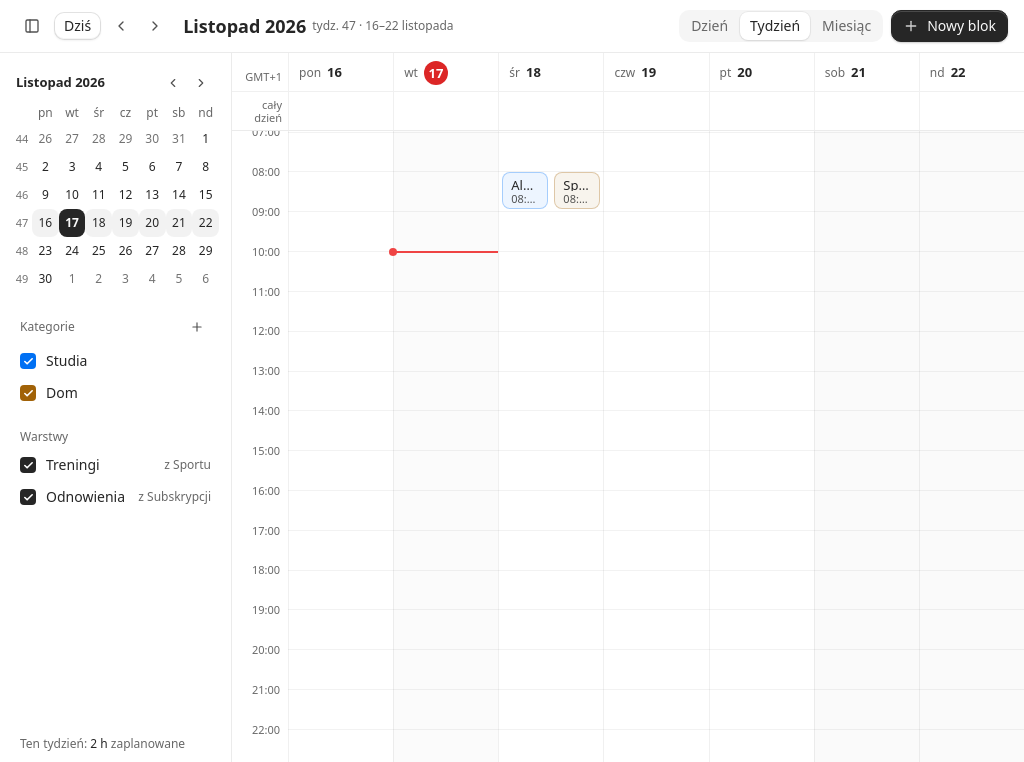
Test: CalendarView › klik w blok otwiera dymek, ponowny klik i Esc go zamykają
Click the button "Algebra 08:00–09:00". click: {"x": 525, "y": 191}
box: [502,172,548,209]
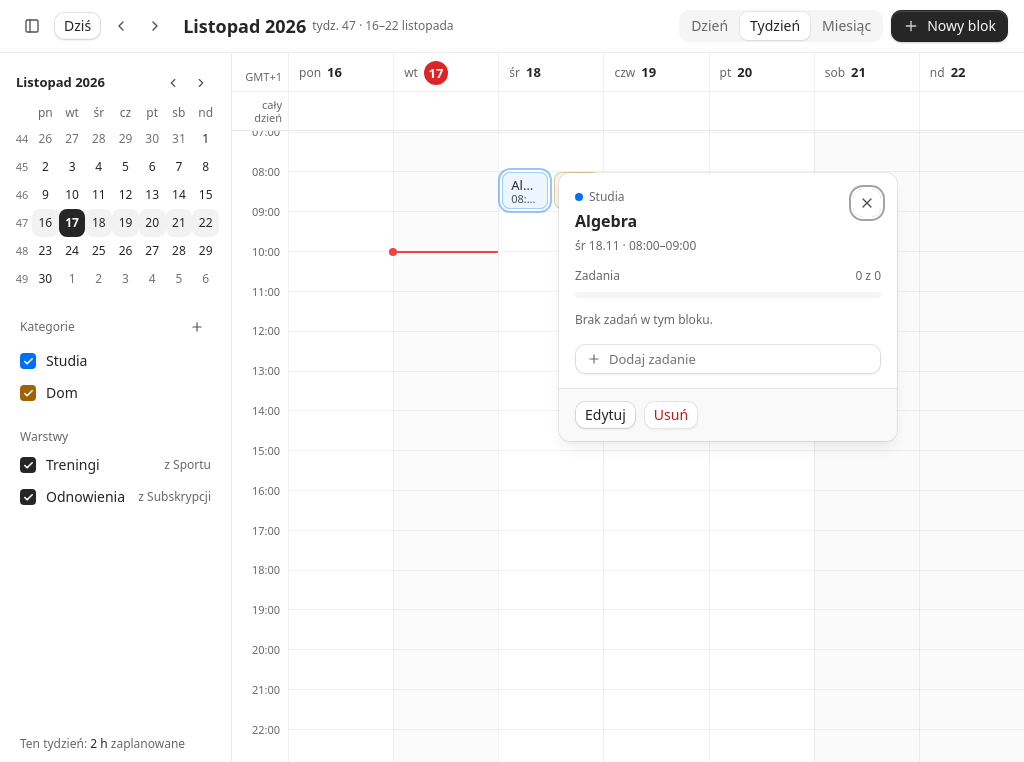
Check: the dialog named "Szczegóły bloku" is shown, box [558,172,898,442]
Click the button "Algebra 08:00–09:00". click: {"x": 525, "y": 191}
box: [502,172,548,209]
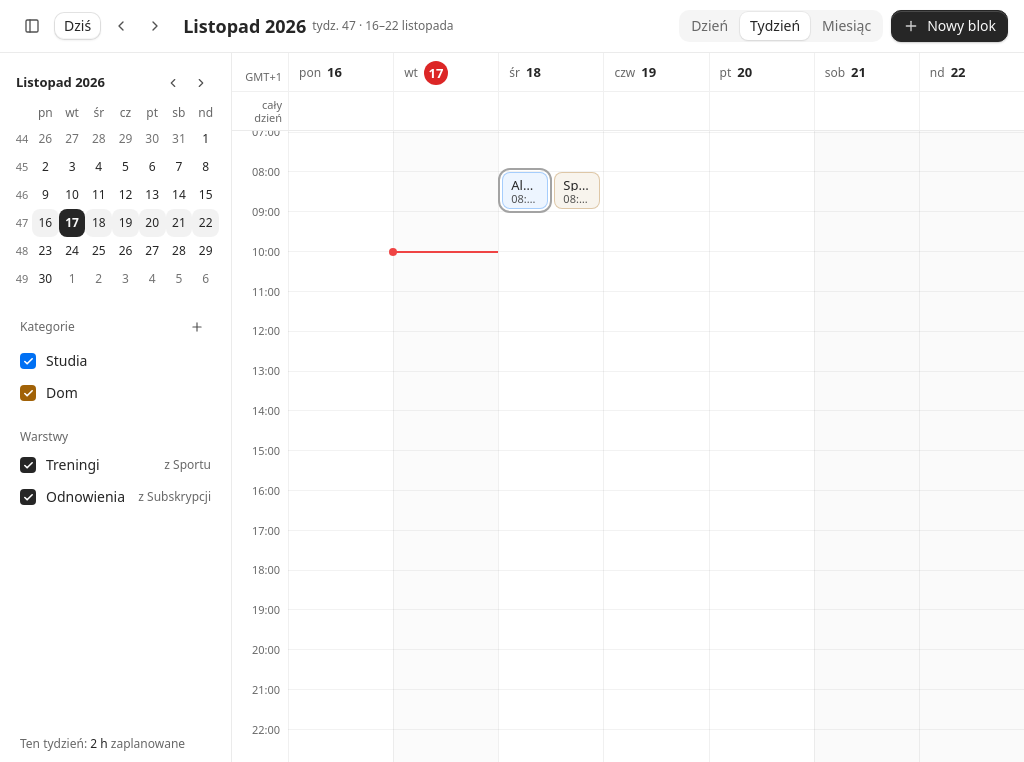
Check: the dialog is gone
Click the button "Algebra 08:00–09:00". click: {"x": 525, "y": 191}
box: [502,172,548,209]
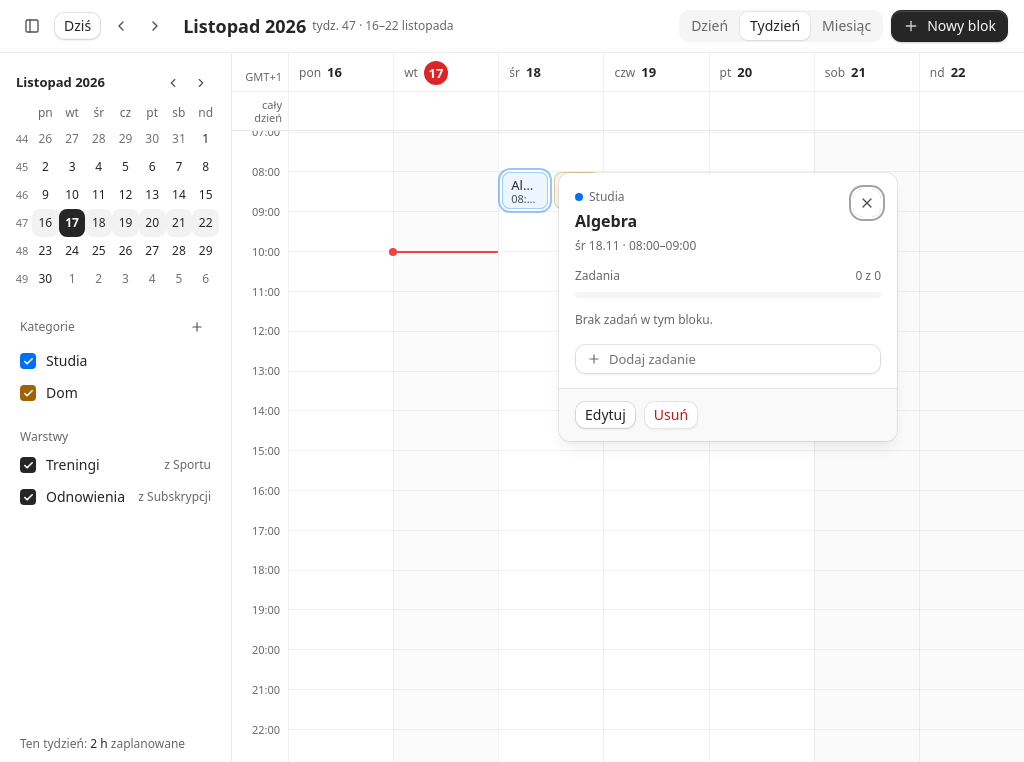
Press Escape
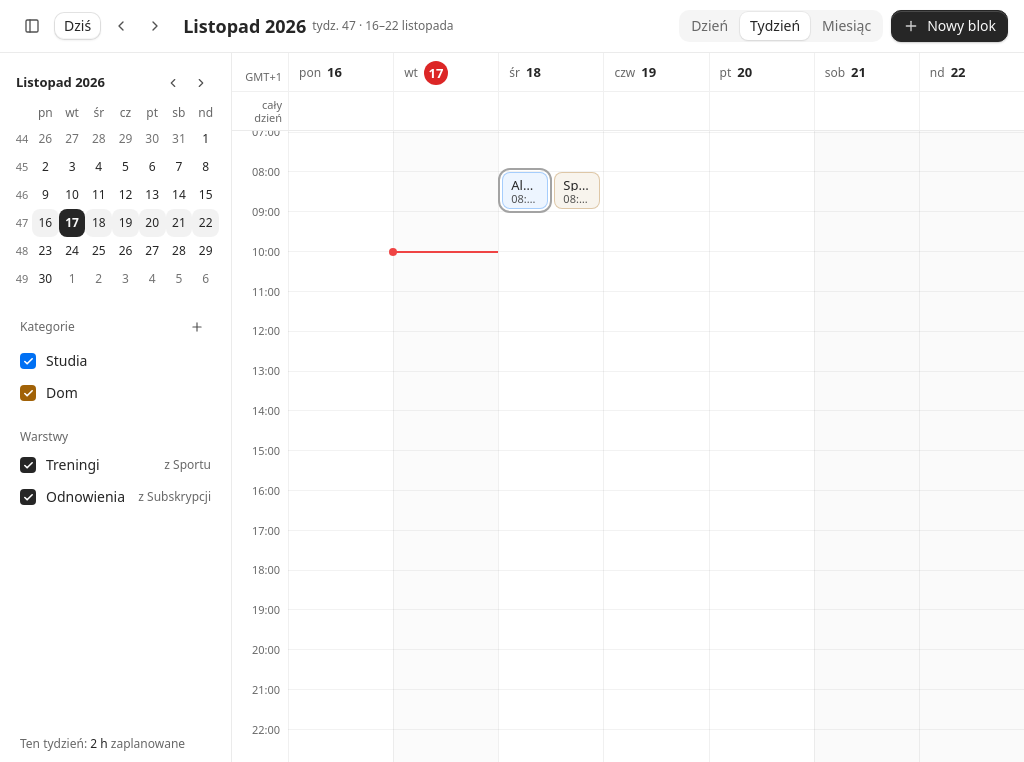
Check: the dialog is gone
